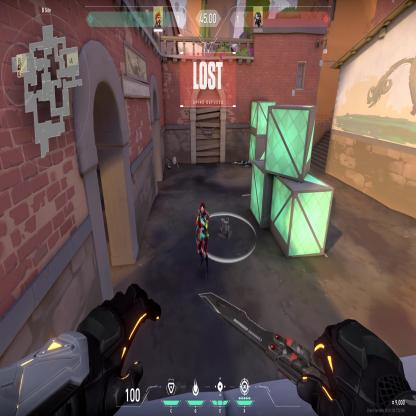enemy: (194, 201, 210, 282)
